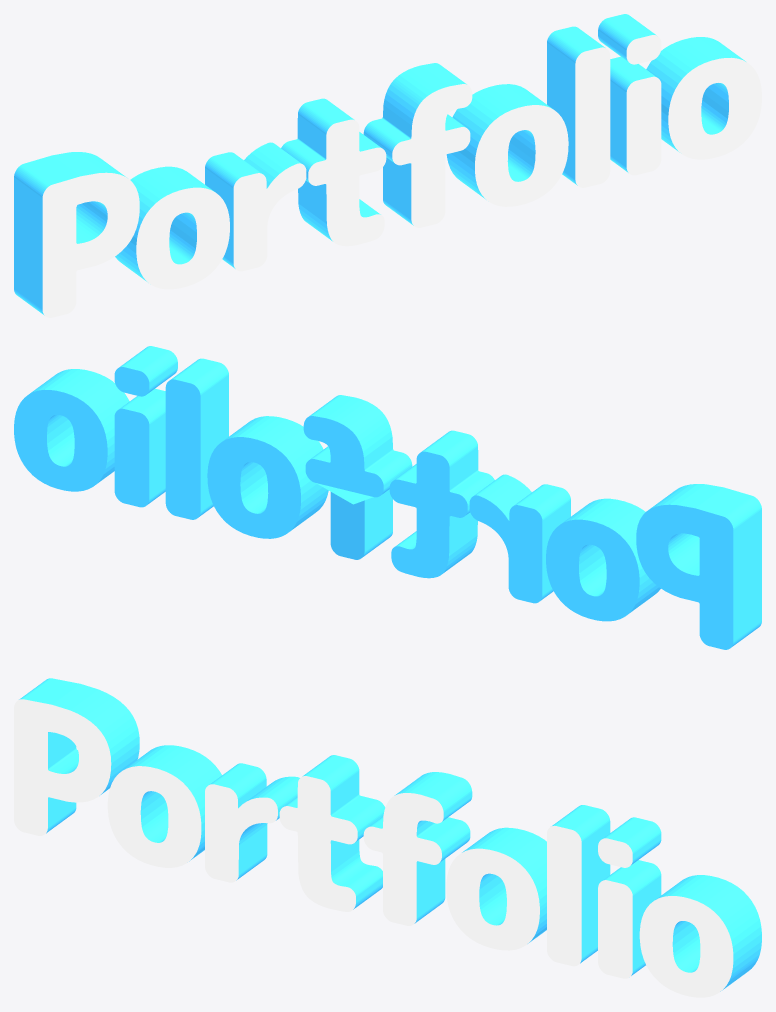
File: txtPorto.glb
The picture shows the model from 3 angles, top to bottom: view 1: azimuth 30°, elevation 25°; view 2: azimuth 150°, elevation 25°; view 3: azimuth 330°, elevation 25°; orthographic projection.
Visible parts, largest first — view 1: Text.001; view 2: Text.001; view 3: Text.001.
Part boxes in pixels (x1=…): Text.001: x1=14, y1=14, x2=761, y2=317; Text.001: x1=14, y1=346, x2=761, y2=649; Text.001: x1=14, y1=678, x2=761, y2=997.
Bounding box in the file's own units: 5.5 × 1.01 × 0.5469.
